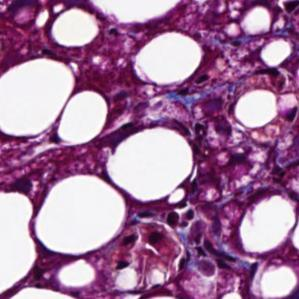inflammation: (209, 29, 280, 79), (159, 202, 225, 251), (185, 93, 236, 143)
